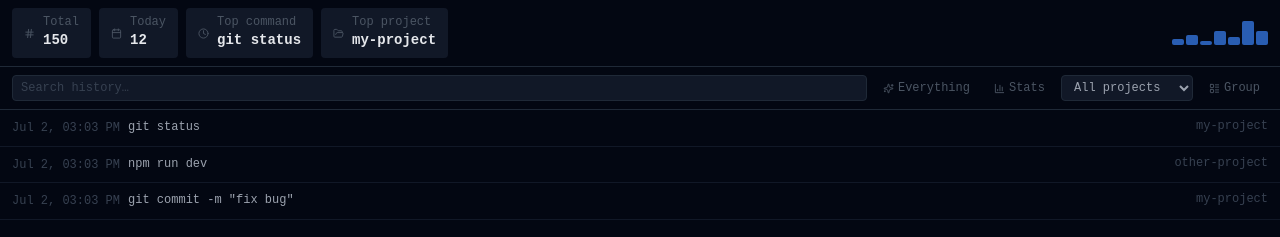
HistoryTab — search everything mode › returns to the display-field filter when toggled back
The width and height of the screenshot is (1280, 237).
Click the button with aria-label "search everything". click: (926, 88)
box: [875,76,978,100]
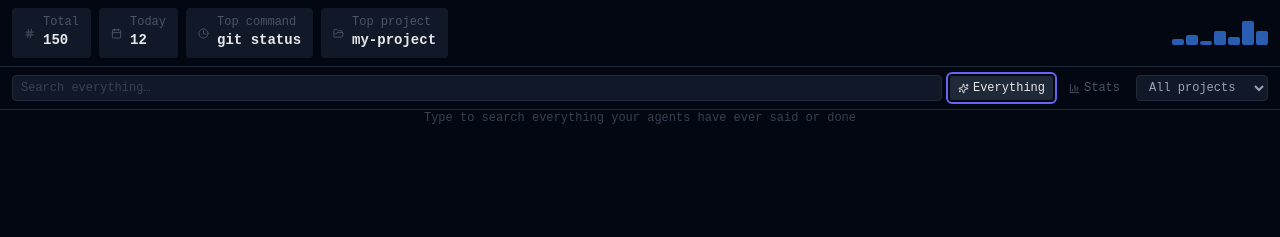
Click the button with aria-label "filter feed". click: (1002, 88)
box: [950,76,1053,100]
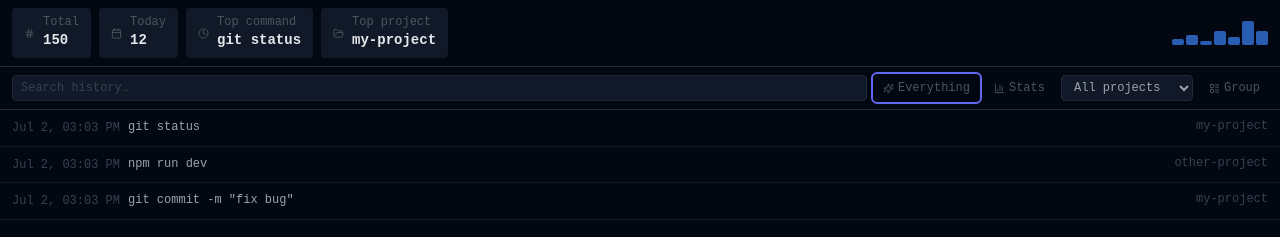
Now the field with placeholder "Search history…" is shown, box [12,75,867,101]
Now the text "npm run dev" is shown, box [128,156,207,170]
